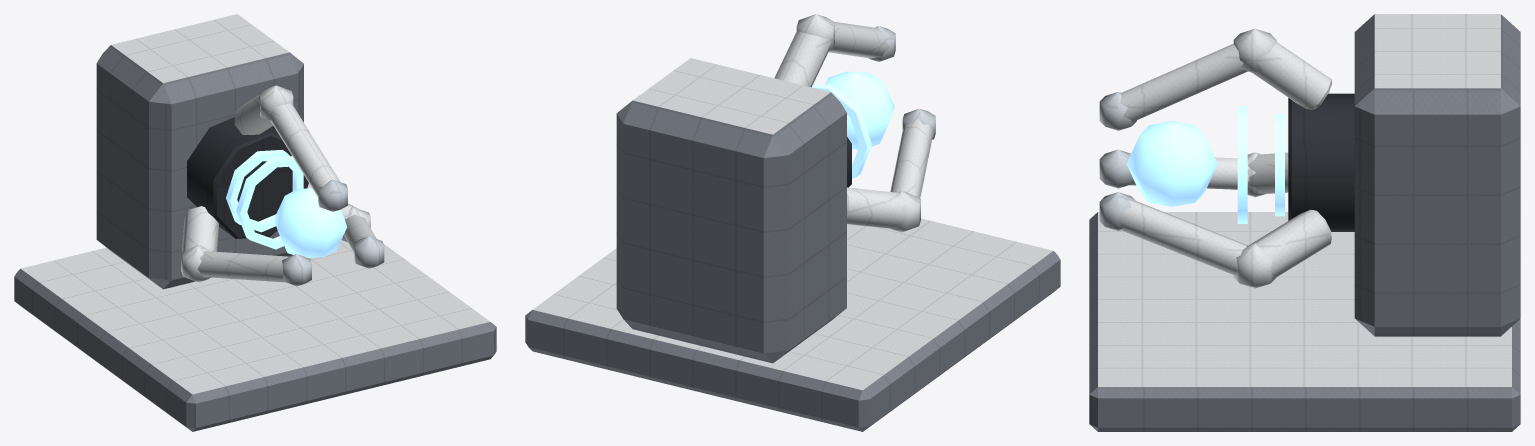
File: R4X_DirectionalEMP_LOD1.glb
3 views of the same model, side by side, from view 1: azimuth 30°, elevation 25°; view 2: azimuth 150°, elevation 25°; view 3: azimuth 270°, elevation 25° (orthographic). The views are drawn at different scales.
Parts seen in each view (by area): view 1: R4X_DirectionalEMP_LOD1; view 2: R4X_DirectionalEMP_LOD1; view 3: R4X_DirectionalEMP_LOD1.
Part boxes in pixels (x1,y1,x2,y2): R4X_DirectionalEMP_LOD1: (14,14,496,431); R4X_DirectionalEMP_LOD1: (525,14,1060,431); R4X_DirectionalEMP_LOD1: (1089,14,1520,431).
Bounding box in the file's own units: 0.52 × 0.42 × 0.52.
5 materials, 4 textured.
